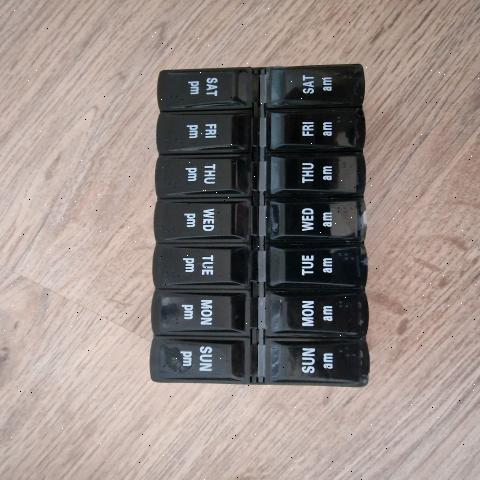FRI-am: (267, 110, 360, 150)
FRI-pm: (155, 110, 251, 158)
MON-am: (261, 287, 368, 335)
MON-pm: (147, 288, 251, 340)
SAT-am: (260, 66, 365, 110)
SAT-pm: (152, 70, 259, 112)
SUN-am: (257, 337, 371, 390)
SUN-pm: (143, 338, 248, 389)
THU-am: (262, 144, 359, 199)
THU-pm: (150, 153, 253, 196)
TUE-am: (259, 236, 365, 282)
TUE-pm: (151, 240, 247, 283)
WED-am: (263, 196, 368, 238)
WED-pm: (139, 193, 258, 241)
